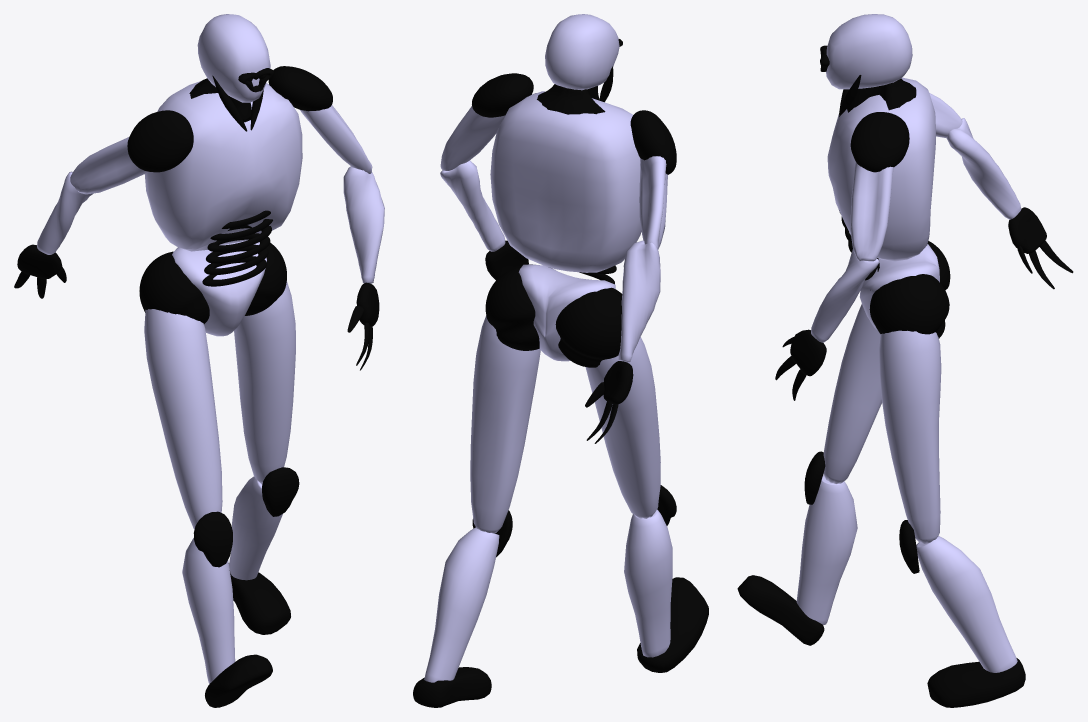
Rendered from Robot.obj.
3 renders of one model, left to right at view 1: azimuth 30°, elevation 25°; view 2: azimuth 150°, elevation 25°; view 3: azimuth 270°, elevation 25°, orthographic. The views are drawn at different scales.
Parts seen in each view (by area): view 1: group6 pCube1, group9 pCylinder9, group7 pCylinder8, group9 pCylinder7, group6 pCube3, pCube2, group8 group7 pCylinder6, group6 pCylinder12, pHelix1, group6 group5 pSphere7, pSphere5 group9, pCube7 group8 group7 (+11 smaller); view 2: group6 pCube1, group7 pCylinder8, group9 pCylinder9, group8 group7 pCylinder6, group9 pCylinder7, group6 pCube3, pSphere5 group9, pCube2, group6 group5 pCylinder13, group7 pSphere4, group9 pCube8, group6 pCylinder12 (+9 smaller); view 3: group7 pCylinder8, group6 pCube1, group8 group7 pCylinder6, group9 pCylinder9, group9 pCylinder7, group6 pCube3, group7 pSphere4, group6 pCylinder14, pCube7 group8 group7, group6 pSphere6, group6 group5 pCylinder13, group9 pCube8 (+8 smaller).
Boxes of the visible parts, left/top/right/bottom form: group6 pCube1: left=144, top=81, right=302, bottom=251; group9 pCylinder9: left=144, top=309, right=222, bottom=529; group7 pCylinder8: left=234, top=281, right=295, bottom=484; group9 pCylinder7: left=182, top=538, right=235, bottom=683; group6 pCube3: left=197, top=14, right=270, bottom=102; pCube2: left=172, top=240, right=266, bottom=336; group8 group7 pCylinder6: left=229, top=476, right=282, bottom=580; group6 pCylinder12: left=343, top=166, right=384, bottom=283; pHelix1: left=202, top=210, right=272, bottom=286; group6 group5 pSphere7: left=127, top=110, right=193, bottom=172; pSphere5 group9: left=139, top=251, right=209, bottom=323; pCube7 group8 group7: left=228, top=563, right=290, bottom=634; group6 pCube1: left=490, top=91, right=641, bottom=272; group7 pCylinder8: left=470, top=315, right=540, bottom=533; group9 pCylinder9: left=585, top=337, right=660, bottom=518; group8 group7 pCylinder6: left=424, top=527, right=499, bottom=682; group9 pCylinder7: left=624, top=509, right=672, bottom=657; group6 pCube3: left=545, top=14, right=619, bottom=90; pSphere5 group9: left=555, top=287, right=622, bottom=367; pCube2: left=518, top=264, right=615, bottom=361; group6 group5 pCylinder13: left=618, top=240, right=660, bottom=362; group7 pSphere4: left=485, top=267, right=539, bottom=350; group9 pCube8: left=637, top=577, right=708, bottom=672; group6 pCylinder12: left=440, top=160, right=505, bottom=251; group7 pCylinder8: left=879, top=330, right=941, bottom=543; group6 pCube1: left=827, top=77, right=935, bottom=261; group8 group7 pCylinder6: left=916, top=536, right=1017, bottom=672; group9 pCylinder9: left=823, top=304, right=882, bottom=483; group9 pCylinder7: left=796, top=475, right=857, bottom=624; group6 pCube3: left=826, top=14, right=912, bottom=89; group7 pSphere4: left=869, top=274, right=949, bottom=338; group6 pCylinder14: left=850, top=162, right=893, bottom=261; pCube7 group8 group7: left=927, top=658, right=1025, bottom=707; group6 pSphere6: left=850, top=112, right=909, bottom=172; group6 group5 pCylinder13: left=946, top=118, right=1021, bottom=219; group9 pCube8: left=737, top=575, right=824, bottom=645.
Bounding box in the file's own units: 6.07 × 14.11 × 6.64.
